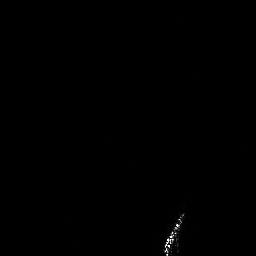ship: (158, 208, 190, 256)
